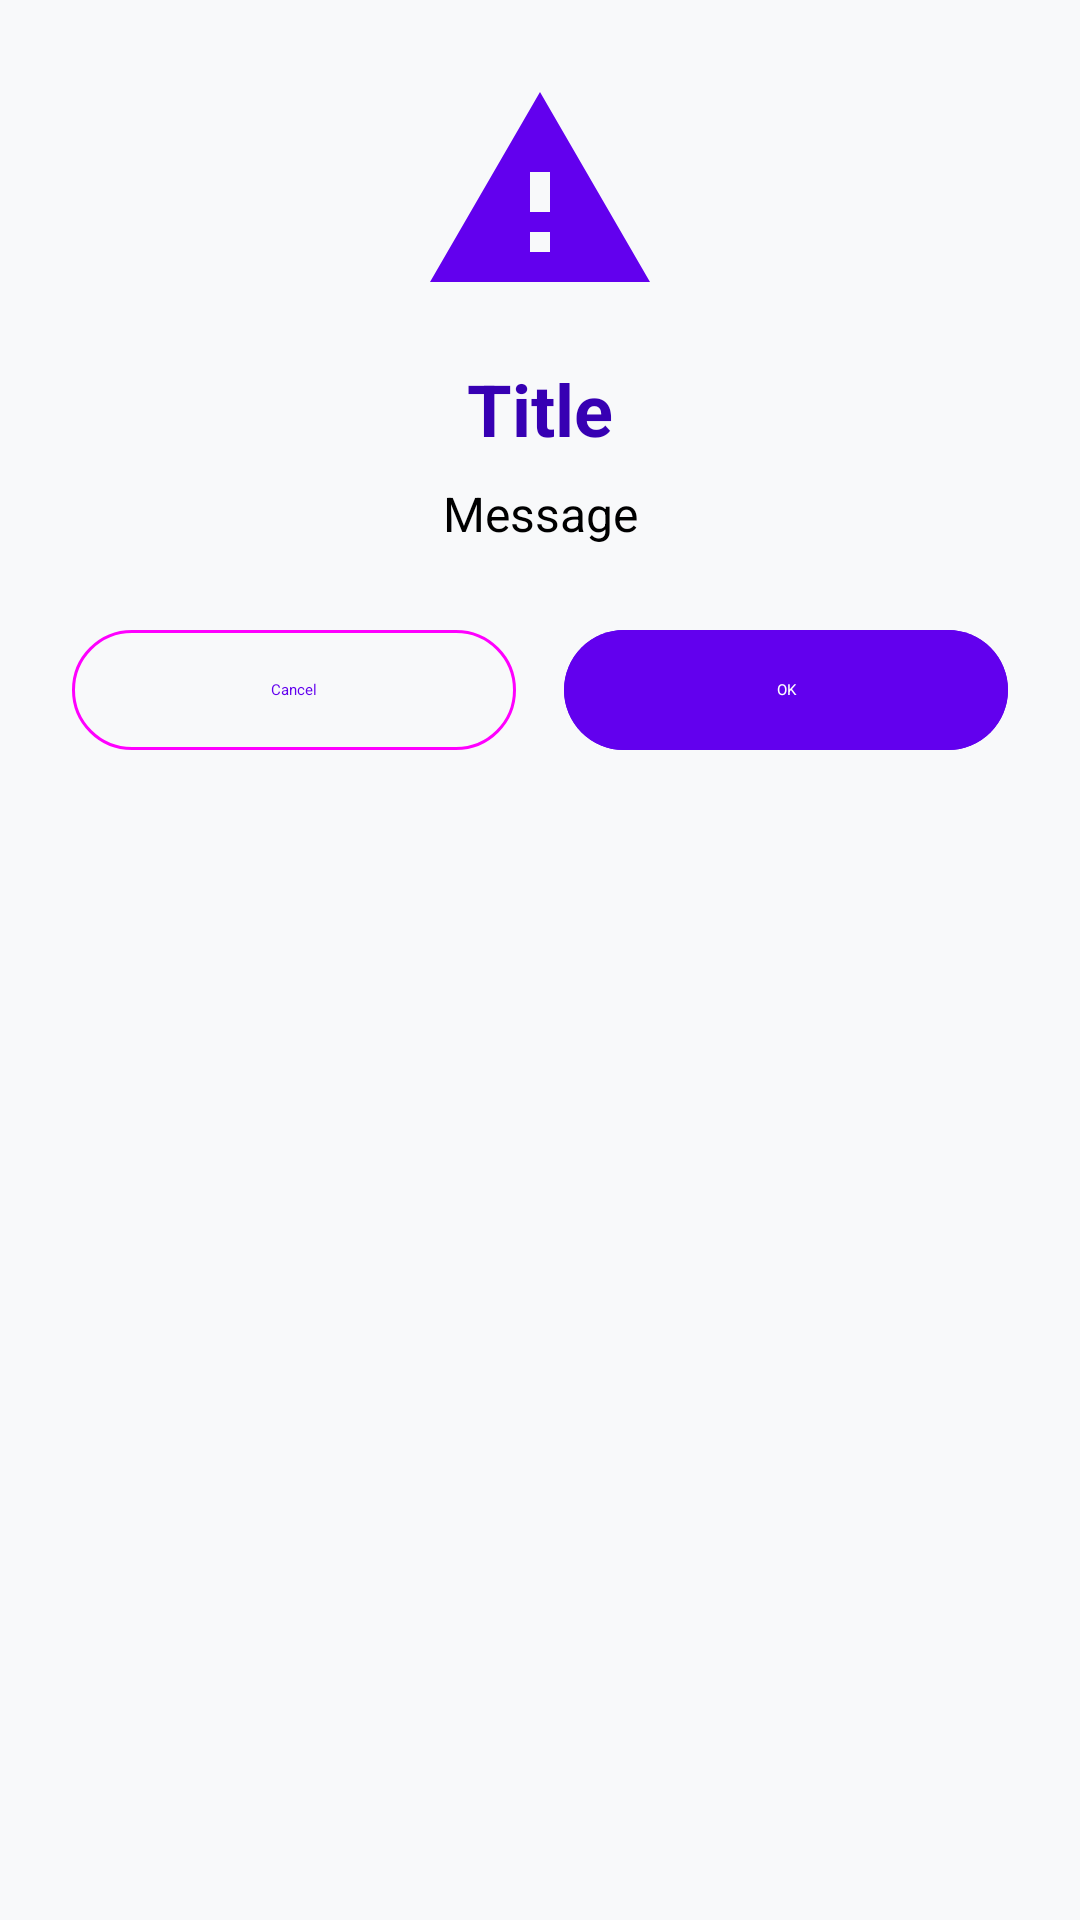

Icon click points for this 1080*1920 phone screenshot, format (x=x, y=y):
warning: (x=540, y=187)
